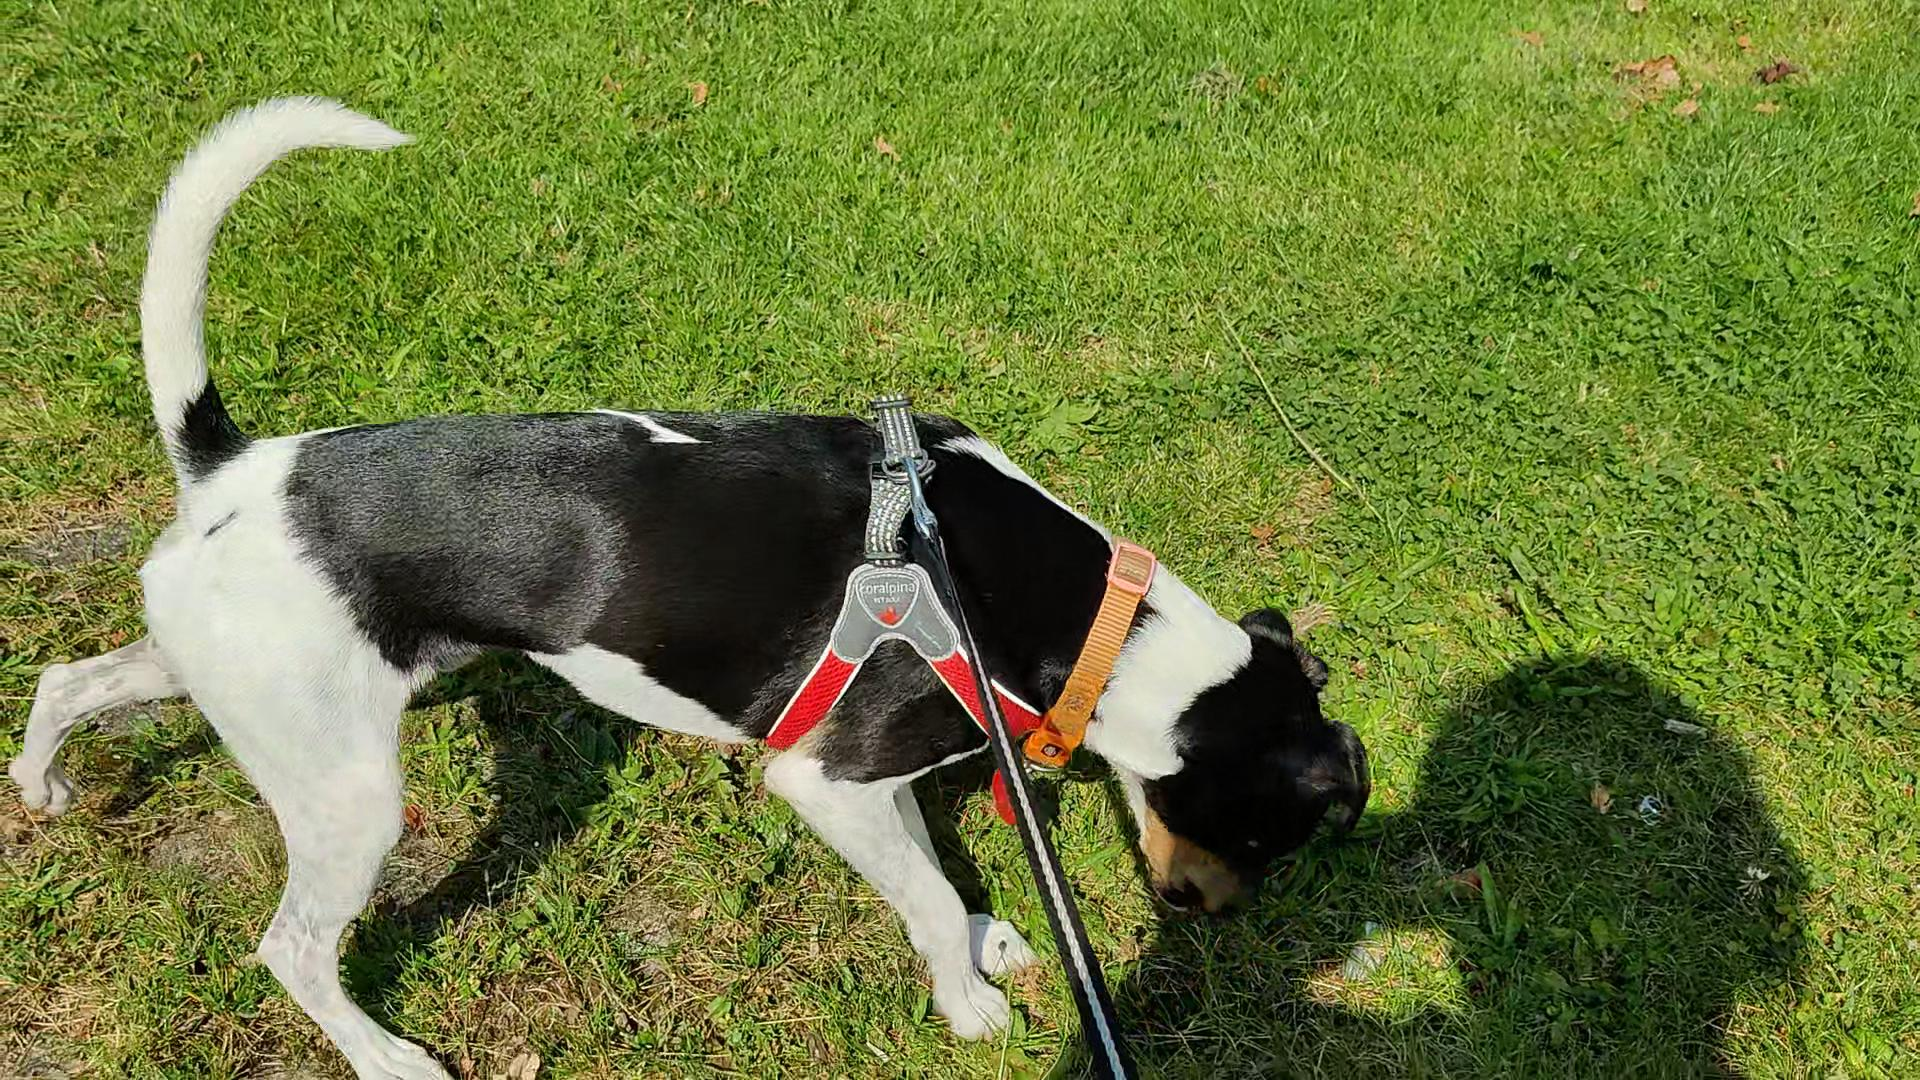Dog: (5, 87, 1374, 1079)
